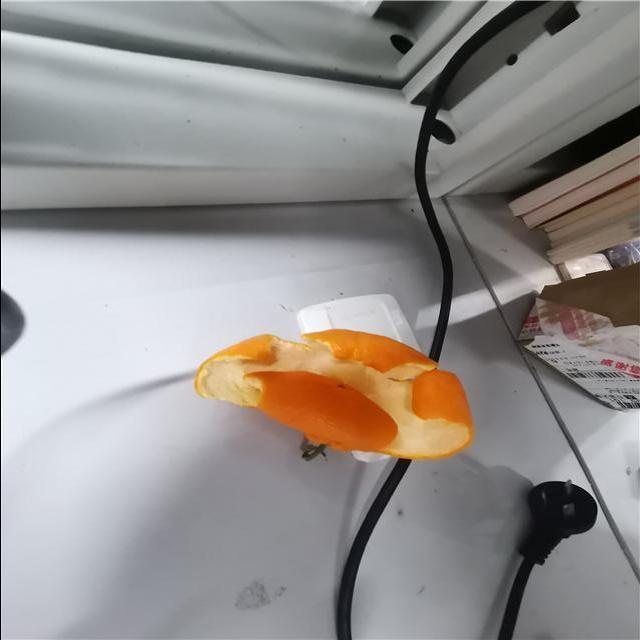orange peel: (192, 328, 474, 462)
